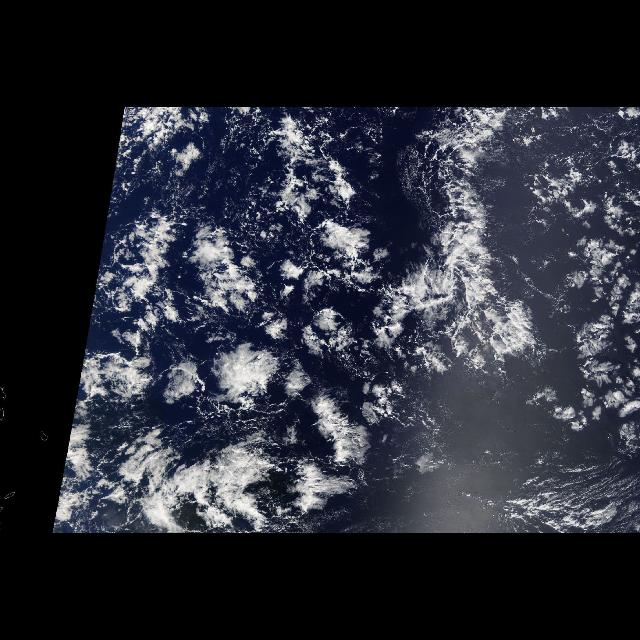Fish: (373, 108, 564, 378)
Flower: (91, 192, 392, 526)
